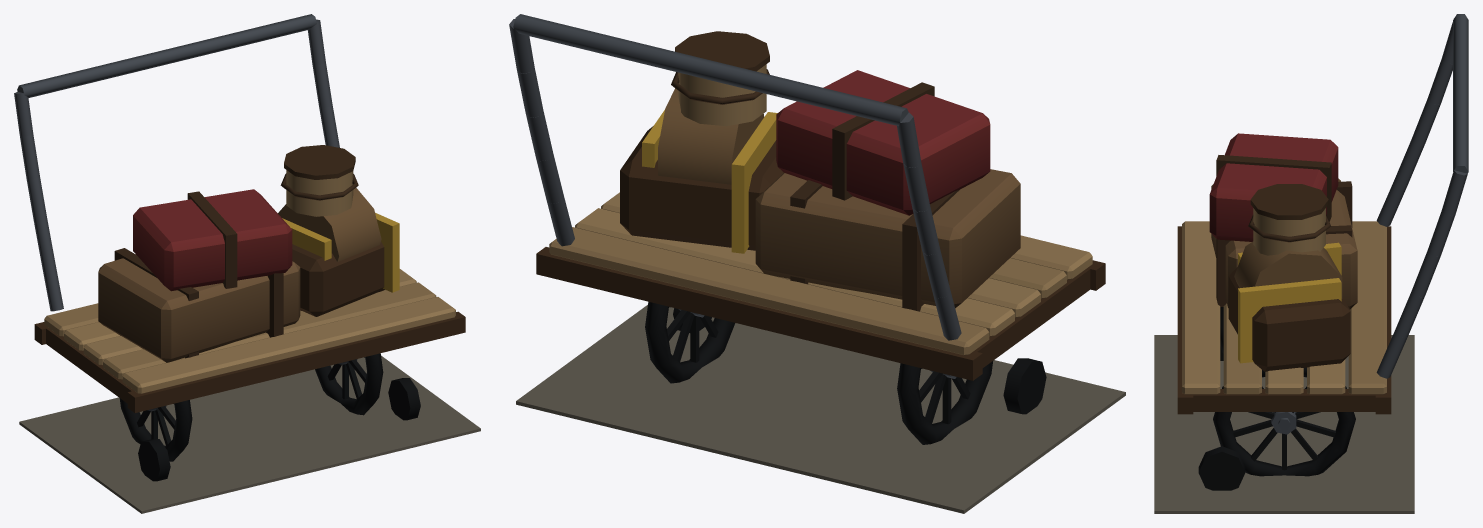
The model's file is railway-luggage-trolley.glb.
The picture shows the model from 3 angles, left to right: view 1: azimuth 30°, elevation 25°; view 2: azimuth 150°, elevation 25°; view 3: azimuth 270°, elevation 25°; orthographic projection. The views are drawn at different scales.
Parts seen in each view (by area): view 1: railway_luggage_trolley; view 2: railway_luggage_trolley; view 3: railway_luggage_trolley.
Boxes of the visible parts, left/top/right/bottom form: railway_luggage_trolley: left=14, top=14, right=480, bottom=513; railway_luggage_trolley: left=509, top=14, right=1125, bottom=513; railway_luggage_trolley: left=1154, top=14, right=1468, bottom=513.
Size of the model in its own units: 1.6 by 1.46 by 1.21.
